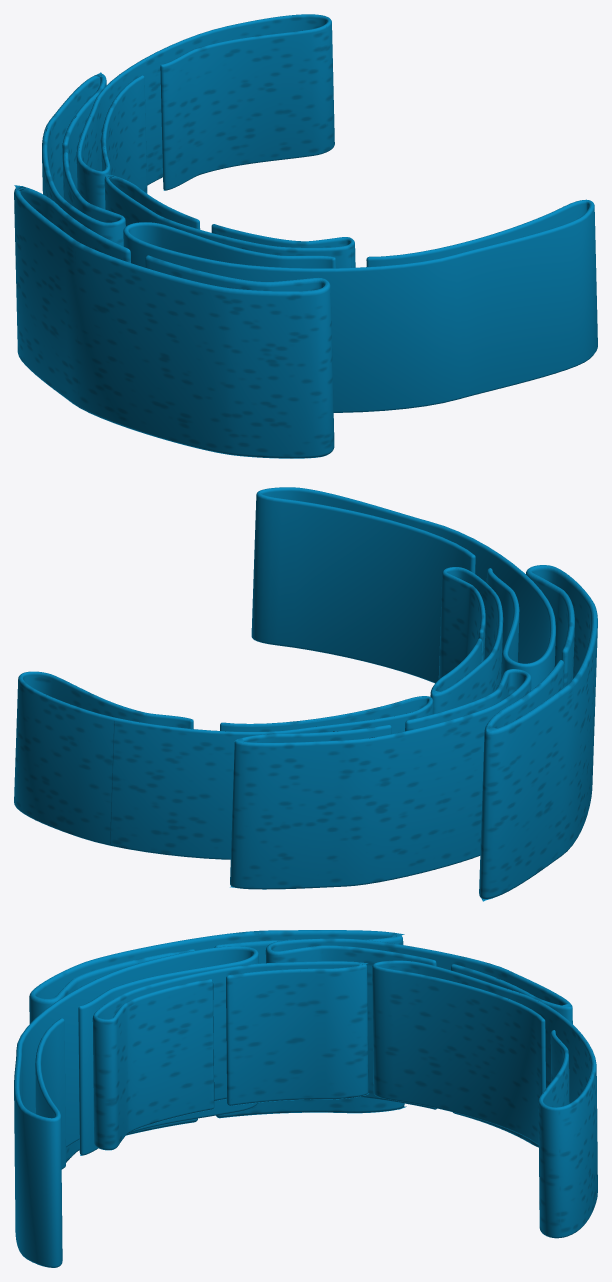
File: reticulo_endoplasmatico.glb
The picture shows the model from 3 angles, top to bottom: view 1: azimuth 30°, elevation 25°; view 2: azimuth 150°, elevation 25°; view 3: azimuth 270°, elevation 25°; orthographic projection.
Visible parts, largest first — view 1: reticulo_endoplasmatico; view 2: reticulo_endoplasmatico; view 3: reticulo_endoplasmatico.
Part boxes in pixels (bbox=[...]): reticulo_endoplasmatico: bbox=[14, 14, 597, 458]; reticulo_endoplasmatico: bbox=[14, 487, 597, 901]; reticulo_endoplasmatico: bbox=[14, 930, 597, 1267].
Bounding box in the file's own units: 0.8134 × 0.3473 × 0.9665.
Materials: 2 (1 with a texture image).
